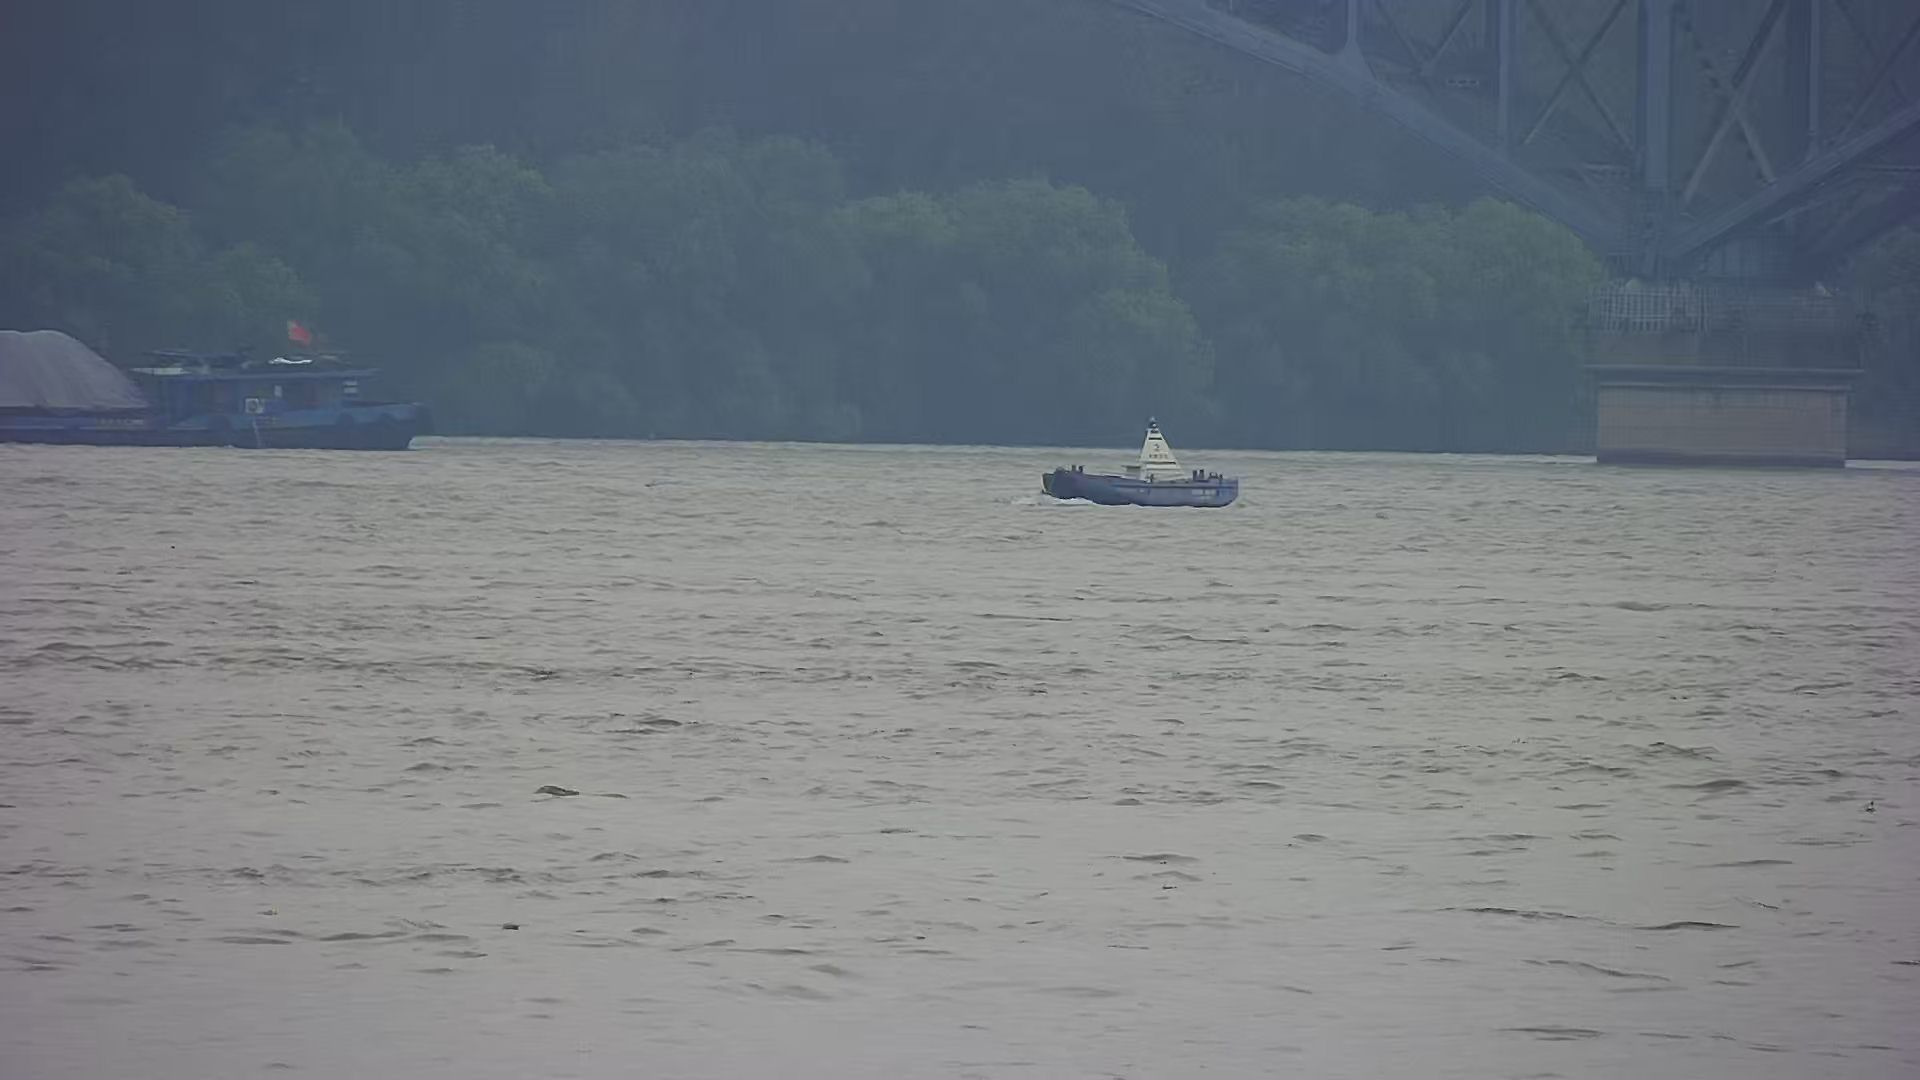boat: (1021, 405, 1280, 520)
bridge: (1095, 1, 1915, 476)
ship: (1, 303, 440, 465)
